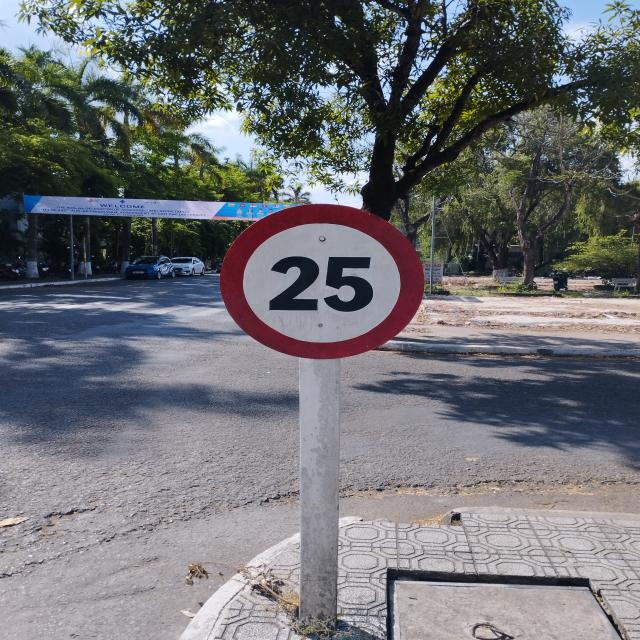Tre_Em: (217, 202, 426, 360)
